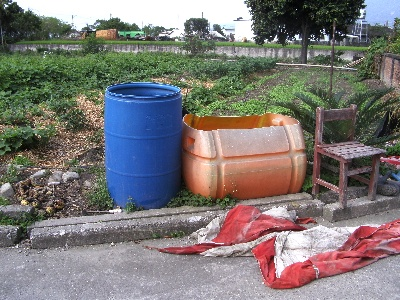bucket: (180, 112, 307, 202), (104, 82, 182, 211)
plastic_bag: (161, 202, 400, 289)
